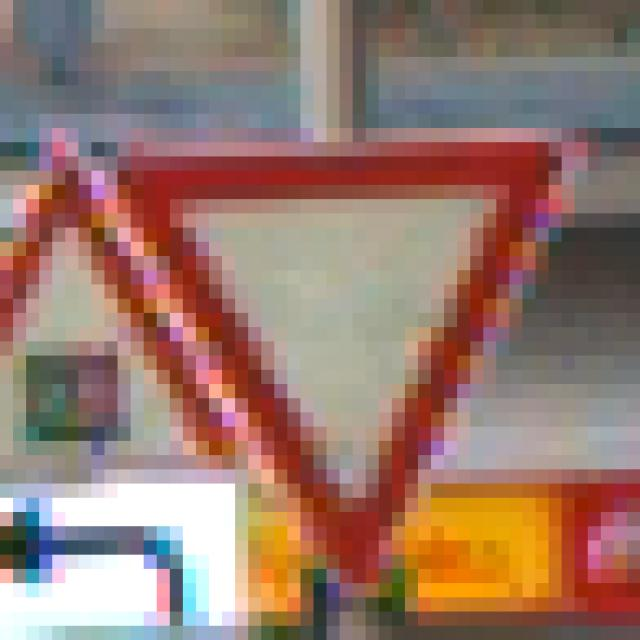Give Way: (79, 86, 576, 556)
